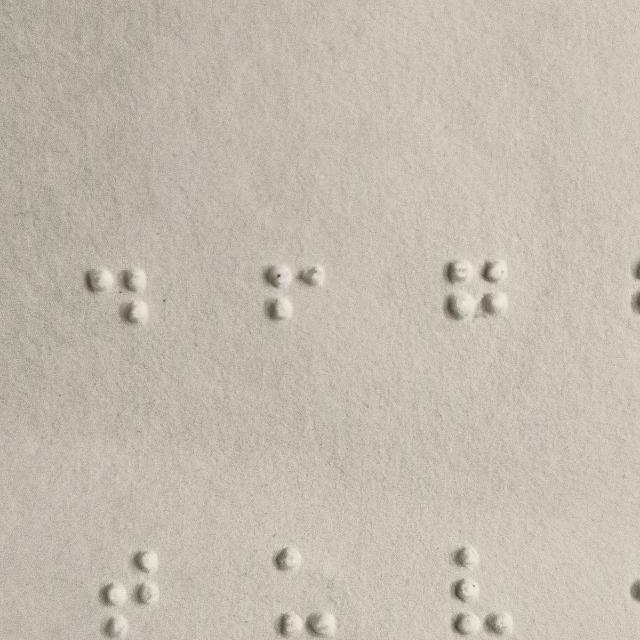one_cell_alphabet_bagaman: (450, 546, 517, 638)
one_cell_alphabet_dahil: (84, 264, 151, 356)
one_cell_alphabet_ganoon: (442, 257, 510, 348)
one_cell_alphabet_paano: (264, 262, 331, 353)
one_cell_alphabet_tayo: (97, 549, 165, 640)
one_cell_alphabet_upang: (270, 547, 337, 639)
